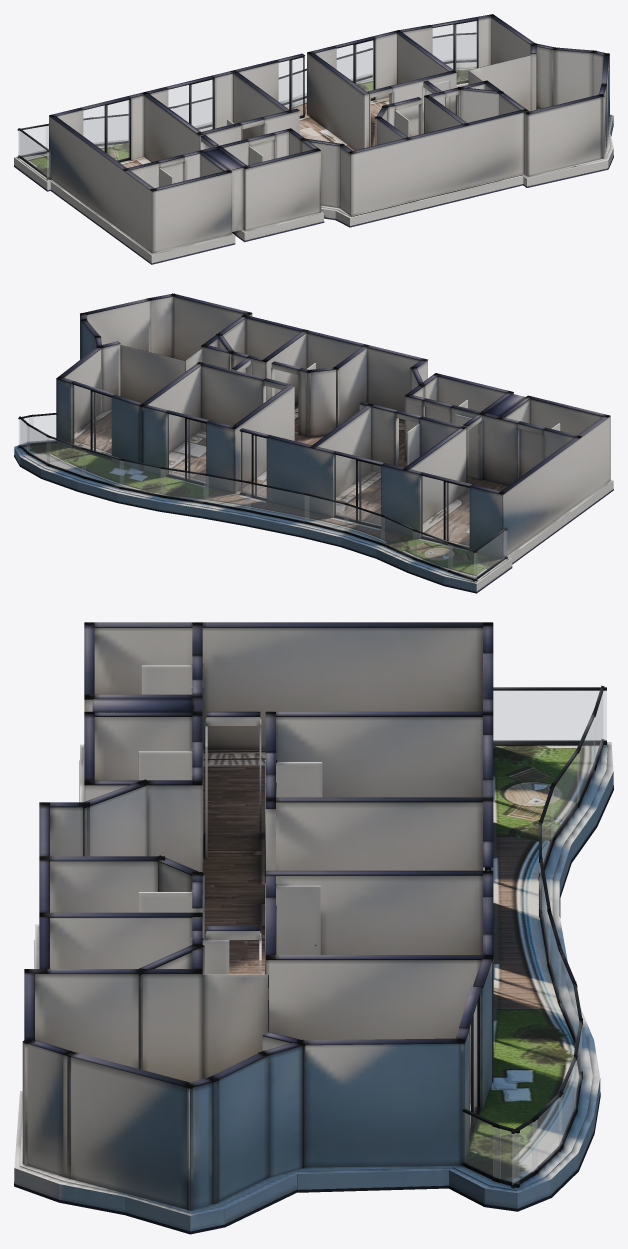
3 views of the same model, one above another, from view 1: azimuth 30°, elevation 25°; view 2: azimuth 150°, elevation 25°; view 3: azimuth 270°, elevation 25° (orthographic). The views are drawn at different scales.
Visible parts, largest first — view 1: plan, glass0_m, glass4_m, glass1_m, glass3_m, glass2_m, railg16_m, railg13_m, railg15_m, railg10_m, railg7_m, railg3_m (+2 smaller); view 2: plan, glass0_m, glass1_m, glass4_m, glass3_m, railg6_m, glass2_m, railg8_m, railg9_m, railg7_m, railg10_m, railg5_m (+8 smaller); view 3: plan, railg16_m, railg0_m, railg3_m, railg13_m, railg1_m, railg2_m, railg14_m, railg4_m.
Part boxes in pixels (x1=…): plan: x1=14, y1=14, x2=613, y2=264; glass0_m: x1=83, y1=100, x2=129, y2=160; glass4_m: x1=433, y1=21, x2=476, y2=81; glass1_m: x1=168, y1=80, x2=212, y2=131; glass3_m: x1=337, y1=40, x2=373, y2=98; glass2_m: x1=279, y1=58, x2=302, y2=115; railg16_m: x1=19, y1=131, x2=50, y2=177; railg13_m: x1=92, y1=116, x2=127, y2=143; railg15_m: x1=18, y1=126, x2=48, y2=155; railg10_m: x1=178, y1=100, x2=211, y2=127; railg7_m: x1=337, y1=51, x2=369, y2=80; railg3_m: x1=457, y1=35, x2=475, y2=60; plan: x1=14, y1=293, x2=613, y2=593; glass0_m: x1=421, y1=476, x2=469, y2=547; glass1_m: x1=334, y1=455, x2=380, y2=525; glass4_m: x1=73, y1=385, x2=111, y2=454; glass3_m: x1=167, y1=414, x2=205, y2=482; railg6_m: x1=246, y1=483, x2=308, y2=521; glass2_m: x1=241, y1=432, x2=266, y2=497; railg8_m: x1=161, y1=469, x2=208, y2=501; railg9_m: x1=204, y1=476, x2=250, y2=509; railg7_m: x1=120, y1=460, x2=165, y2=495; railg10_m: x1=305, y1=495, x2=348, y2=531; railg5_m: x1=82, y1=449, x2=123, y2=487; plan: x1=14, y1=622, x2=613, y2=1234; railg16_m: x1=493, y1=691, x2=606, y2=740; railg0_m: x1=464, y1=1113, x2=500, y2=1178; railg3_m: x1=532, y1=1096, x2=561, y2=1172; railg13_m: x1=551, y1=753, x2=579, y2=839; railg1_m: x1=493, y1=1127, x2=518, y2=1183; railg2_m: x1=512, y1=1120, x2=537, y2=1184; railg14_m: x1=577, y1=718, x2=594, y2=803; railg4_m: x1=559, y1=1062, x2=575, y2=1147.
Size of the model in its own units: 18.75 by 2.62 by 10.01.
Materials: 2 (1 with a texture image).
